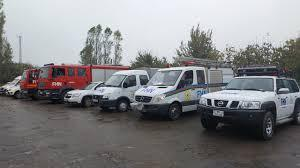Fire-engine: (40, 60, 112, 102)
